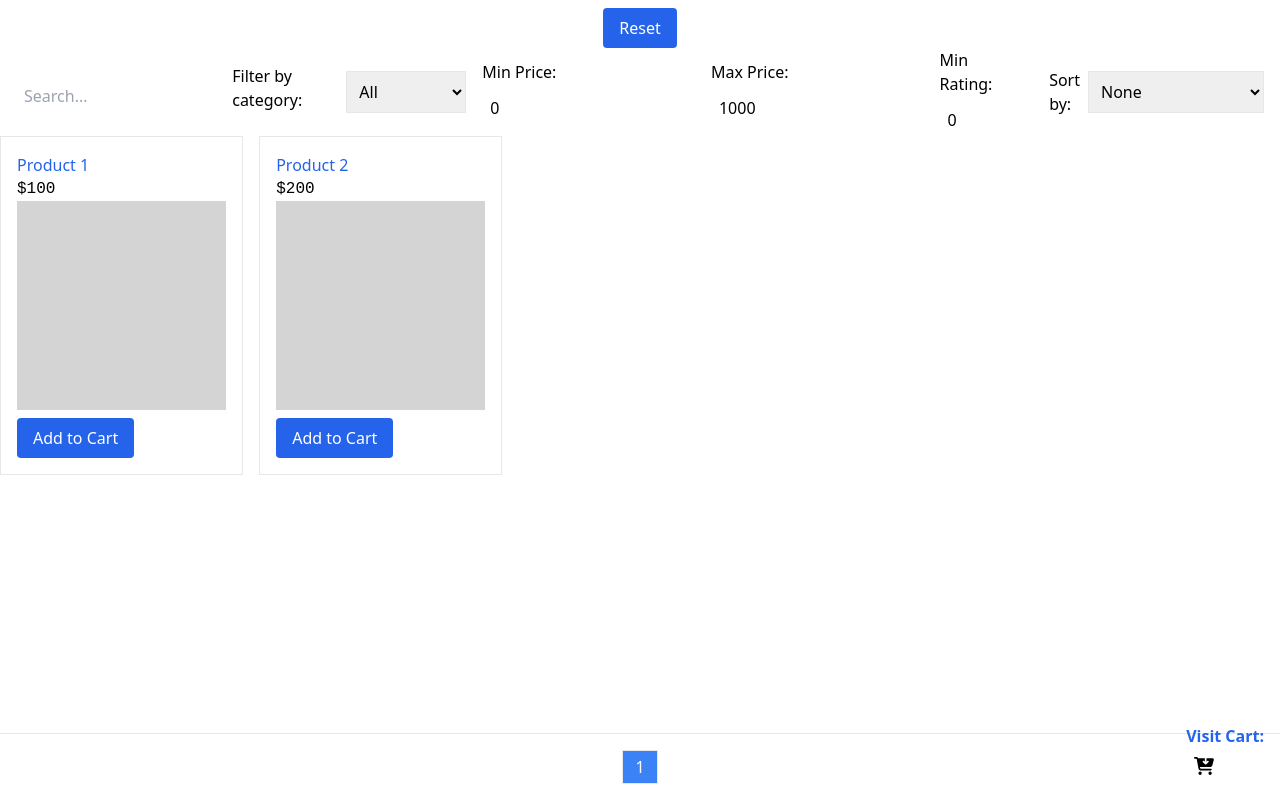
filters products by category
Select "Category 1" in the dropdown labelled "Filter by category". click: [406, 92]
box: [346,71,466,113]
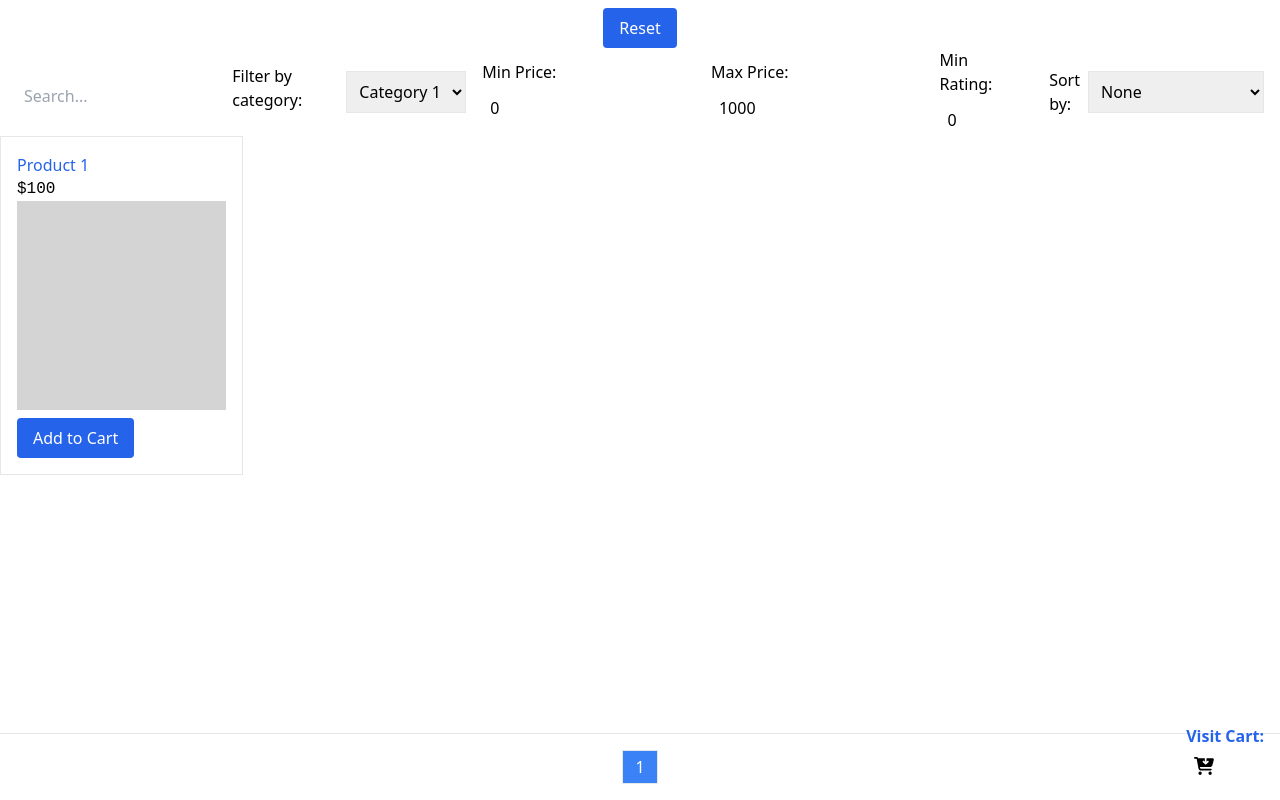
Expected: the heading "Product 1" is shown, [17,154,89,176]
Now the link "Product 2" is gone
